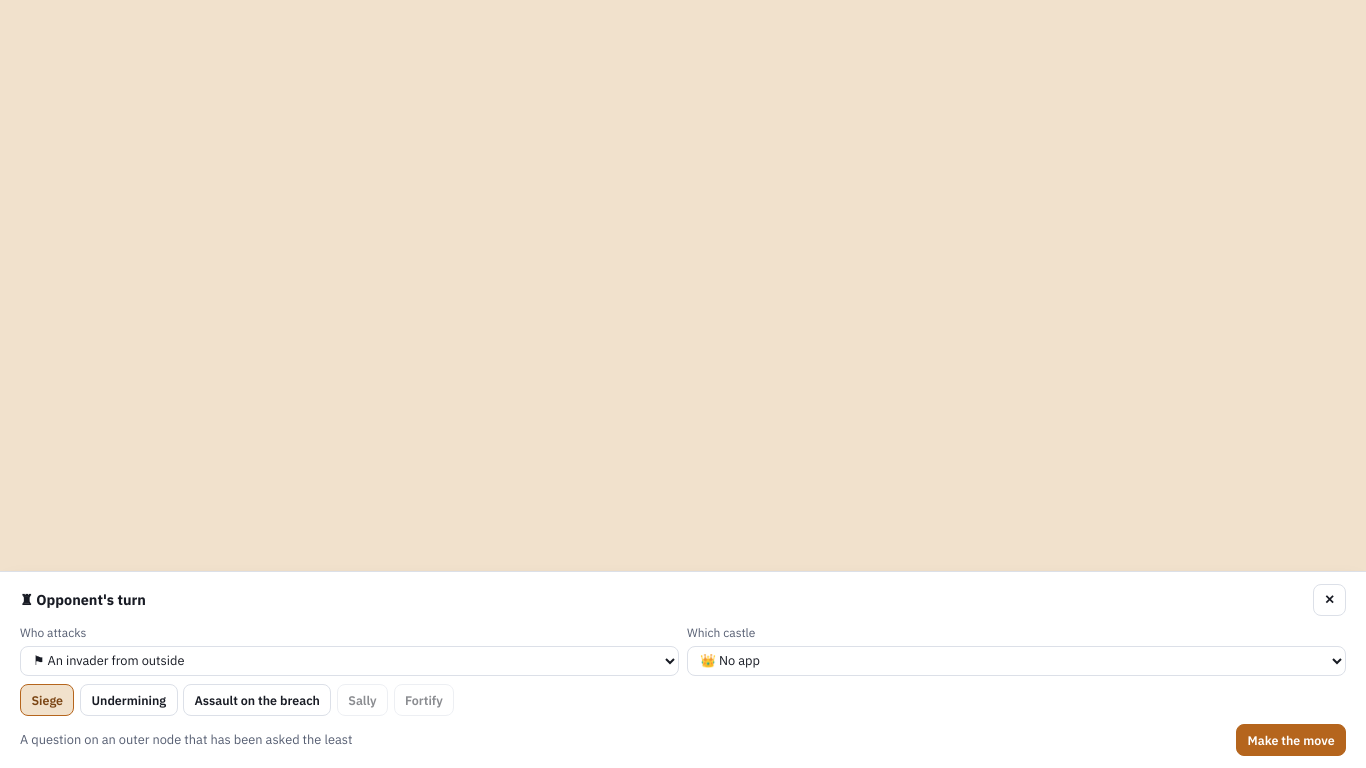
Scenario: SiegePanel › offers sally and fortify only to an attacking castle
Expected: the radio button labelled "Sally" is disabled, [337, 684, 388, 716]
Select "🏰 TikTok" in the dropdown labelled "Who attacks" at (350,661), box [20, 646, 679, 676]
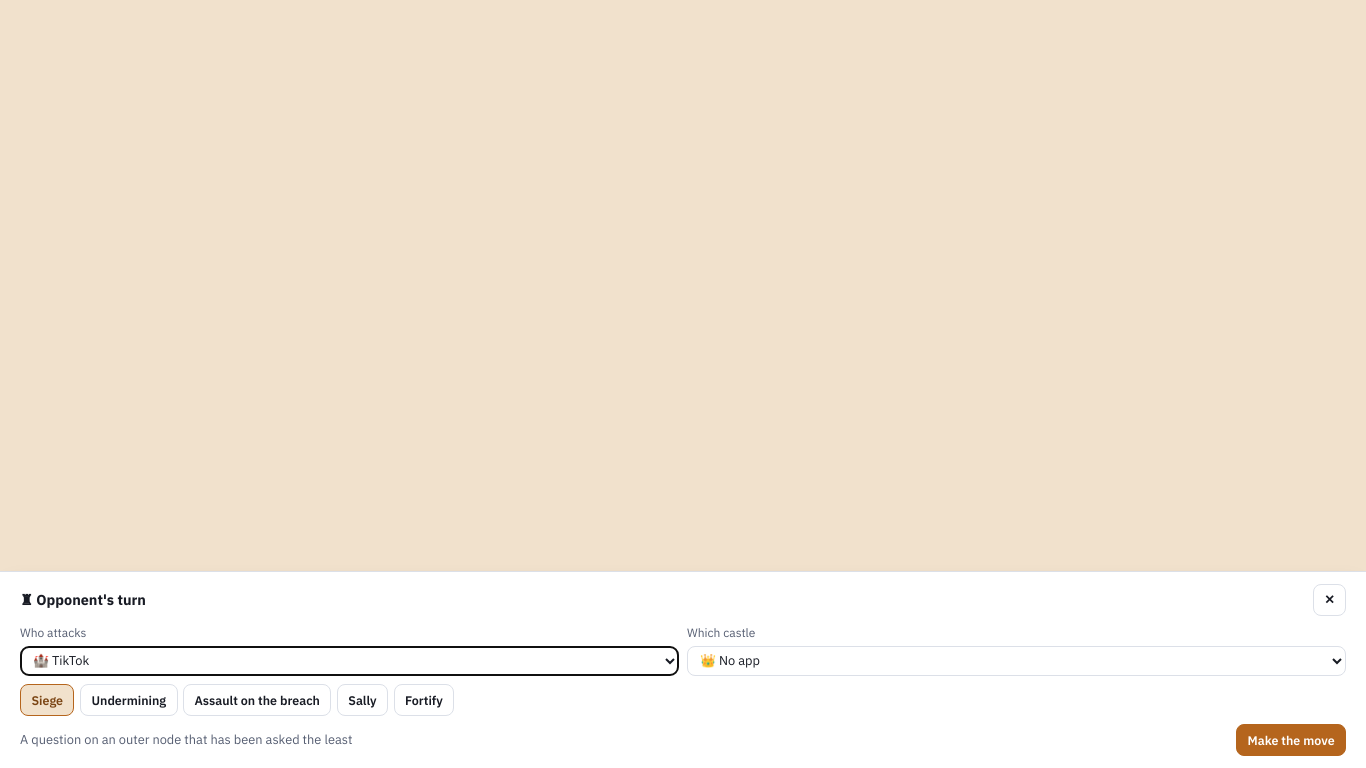
Expected: the radio button labelled "Sally" is enabled, [337, 684, 388, 716]
